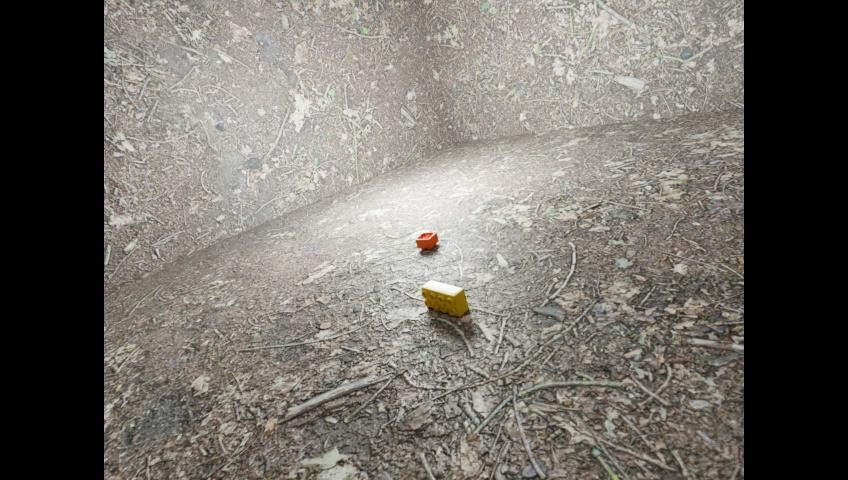2x2_orange: (415, 231, 438, 249)
4x2_yellow: (421, 280, 468, 316)
